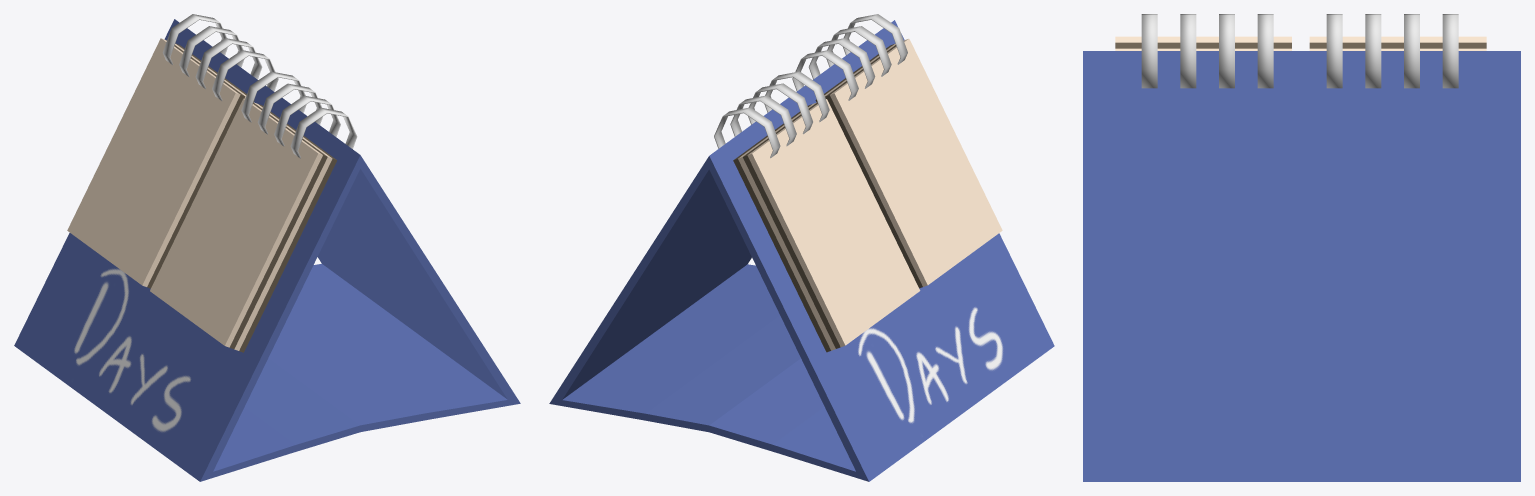
File: blocoNotasDays.fbx
3 views of the same model, side by side, from view 1: azimuth 30°, elevation 25°; view 2: azimuth 150°, elevation 25°; view 3: azimuth 270°, elevation 25° (orthographic). The views are drawn at different scales.
Visible parts, largest first — view 1: Base, Notas, Rodinhas; view 2: Base, Notas, Rodinhas; view 3: Base, Rodinhas, Notas.
Boxes of the visible parts, box(x1,y1,x2,y2) form: Base: box(14, 19, 520, 481); Notas: box(67, 38, 336, 352); Rodinhas: box(162, 14, 357, 158); Base: box(549, 20, 1054, 481); Notas: box(733, 39, 1002, 352); Rodinhas: box(714, 14, 907, 158); Base: box(1083, 51, 1520, 481); Rodinhas: box(1141, 14, 1458, 88); Notas: box(1115, 36, 1486, 50).
Size of the model in its own units: 200 by 187 by 201.
